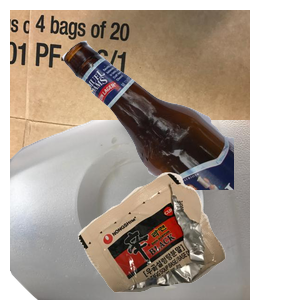cardboard: (10, 10, 250, 190)
glass: (60, 38, 300, 218)
plastic: (10, 120, 250, 300)
trash: (76, 170, 300, 300)
